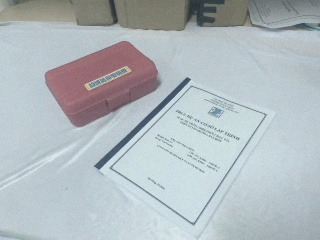box: (44, 39, 160, 129), (111, 1, 193, 33), (193, 1, 249, 28), (68, 1, 118, 27)
